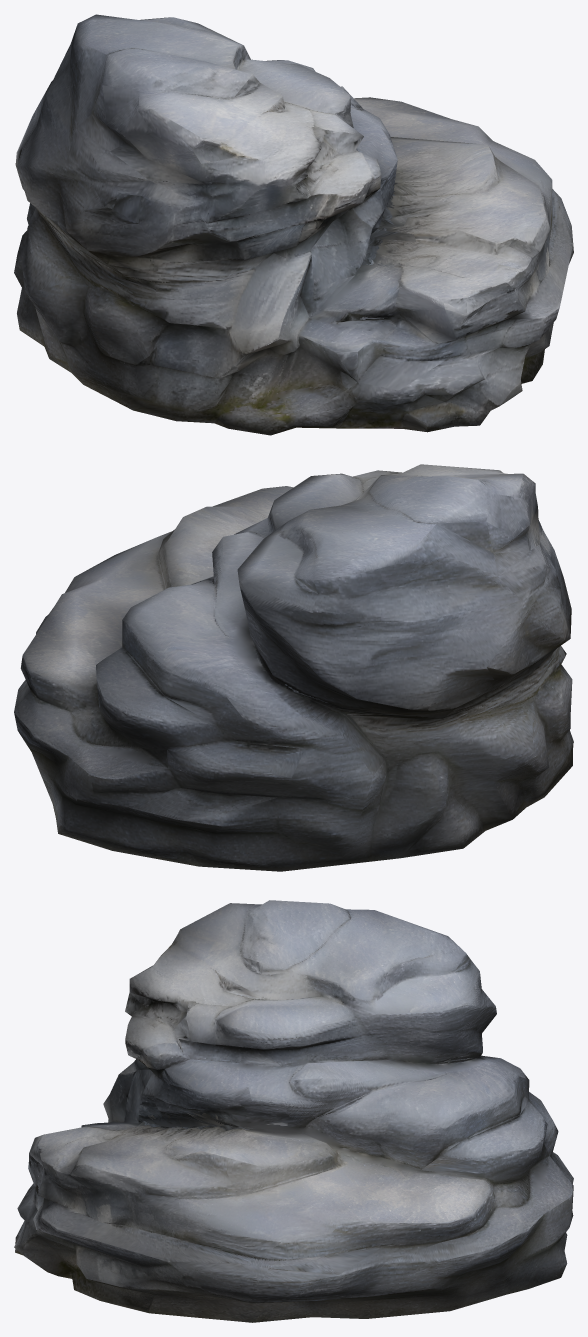
File: StrataRock_LOD1.fbx
The picture shows the model from 3 angles, top to bottom: view 1: azimuth 30°, elevation 25°; view 2: azimuth 150°, elevation 25°; view 3: azimuth 270°, elevation 25°; orthographic projection. The views are drawn at different scales.
Visible parts, largest first — view 1: StrataRock_LOD0; view 2: StrataRock_LOD0; view 3: StrataRock_LOD0.
Part boxes in pixels (left/top/right/bottom): StrataRock_LOD0: left=14, top=14, right=573, bottom=435; StrataRock_LOD0: left=14, top=464, right=573, bottom=871; StrataRock_LOD0: left=14, top=900, right=573, bottom=1322.
Bounding box in the file's own units: 3.01 × 1.71 × 3.23.
